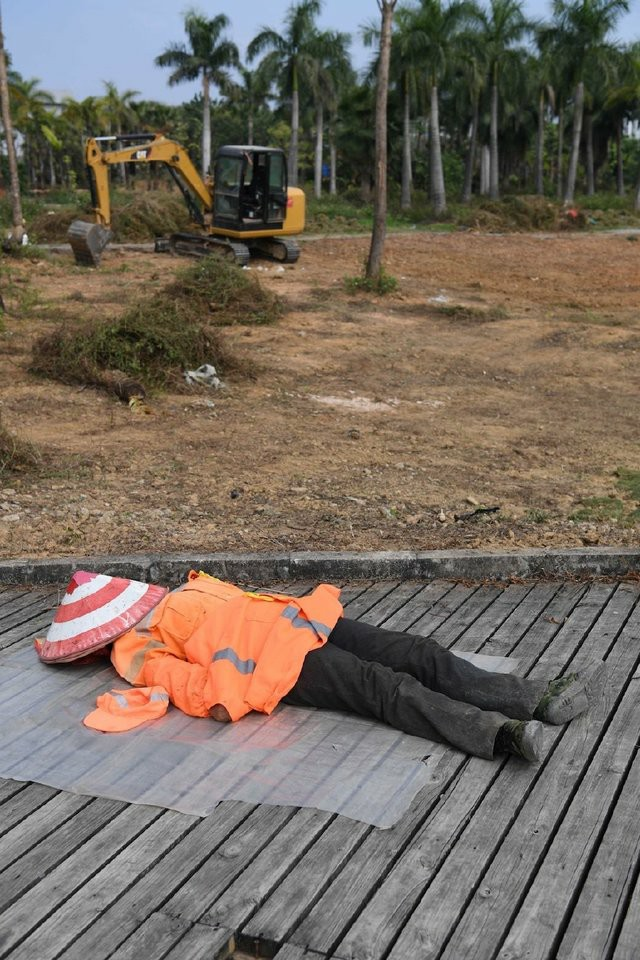fall: (35, 538, 597, 758)
